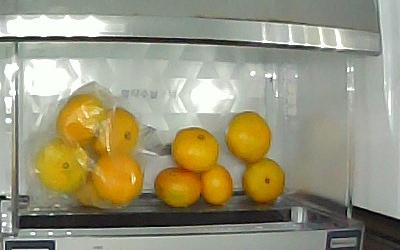tangerine: (225, 111, 272, 163), (171, 127, 221, 175), (153, 167, 201, 208), (243, 158, 285, 204), (201, 164, 233, 207)
tangerine_vinyl: (34, 139, 90, 193), (90, 154, 145, 206), (56, 94, 104, 149), (93, 106, 139, 163), (70, 172, 123, 210)
